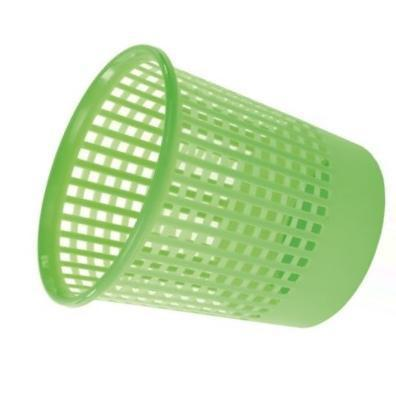Bote de Basura: (46, 49, 382, 328)
